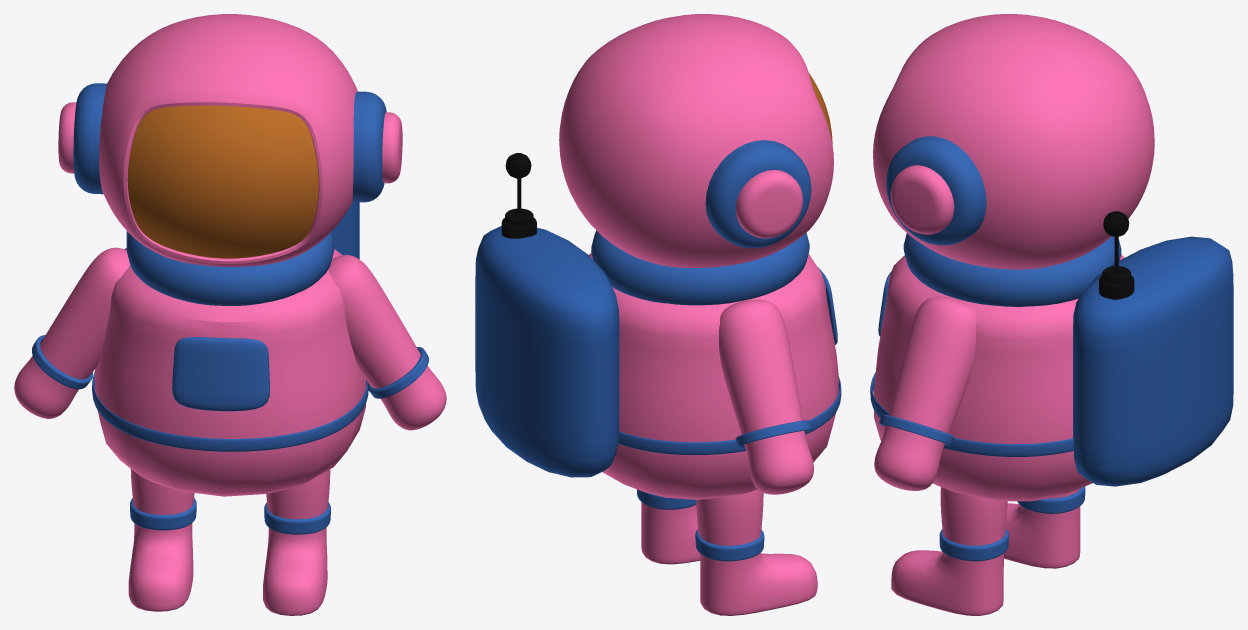
File: spaceman_pink_optimized.glb
3 renders of one model, left to right at view 1: azimuth 30°, elevation 25°; view 2: azimuth 150°, elevation 25°; view 3: azimuth 270°, elevation 25°, orthographic.
Visible parts, largest first — view 1: Cube.011_Material.001_0, Cube.012_Material.002_0, Cube.020_Material.005_0; view 2: Cube.011_Material.001_0, Cube.020_Material.005_0, Cylinder.002_Material.003_0; view 3: Cube.011_Material.001_0, Cube.020_Material.005_0, Cylinder.002_Material.003_0.
Part boxes in pixels (x1=…): Cube.011_Material.001_0: x1=14, y1=14, x2=446, y2=615; Cube.012_Material.002_0: x1=127, y1=105, x2=318, y2=258; Cube.020_Material.005_0: x1=126, y1=202, x2=359, y2=259; Cube.011_Material.001_0: x1=559, y1=14, x2=841, y2=615; Cube.020_Material.005_0: x1=475, y1=226, x2=619, y2=477; Cylinder.002_Material.003_0: x1=501, y1=153, x2=536, y2=238; Cube.011_Material.001_0: x1=870, y1=14, x2=1154, y2=615; Cube.020_Material.005_0: x1=1073, y1=236, x2=1233, y2=486; Cylinder.002_Material.003_0: x1=1099, y1=211, x2=1134, y2=299.
Bounding box in the file's own units: 2.8 × 4.41 × 2.63.
4 materials, 4 textured.
